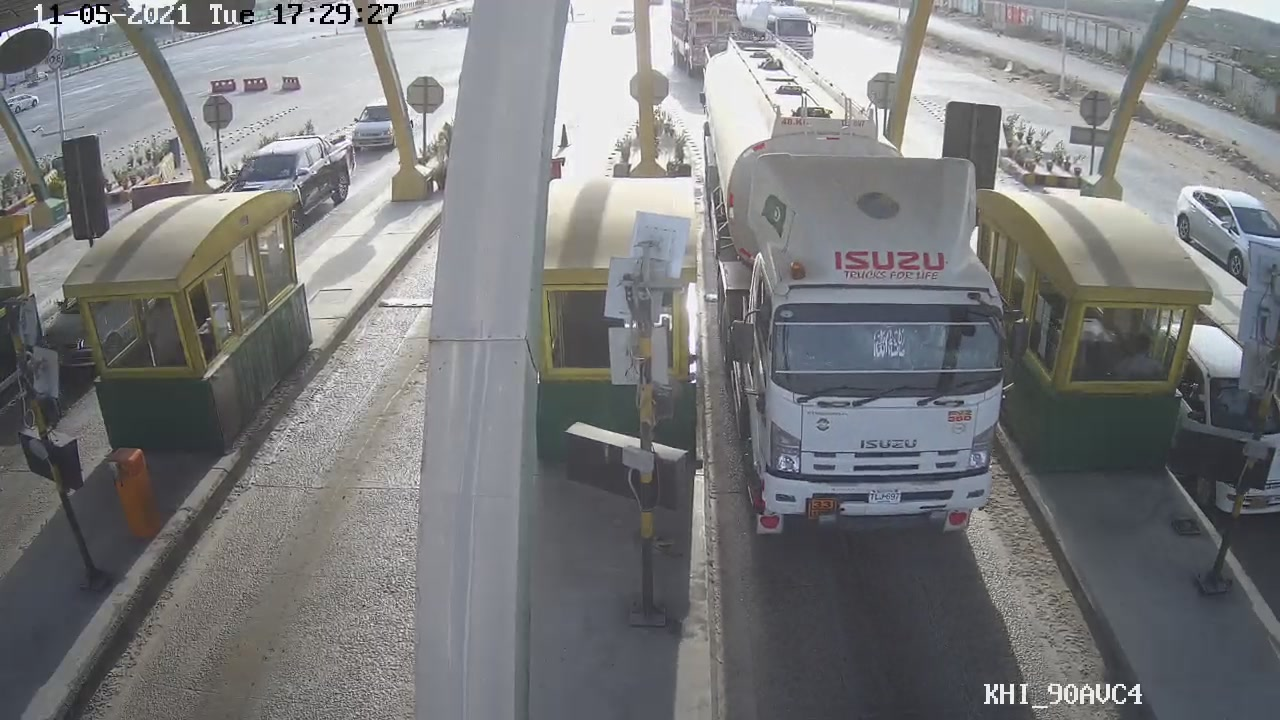F6: (706, 44, 995, 544)
